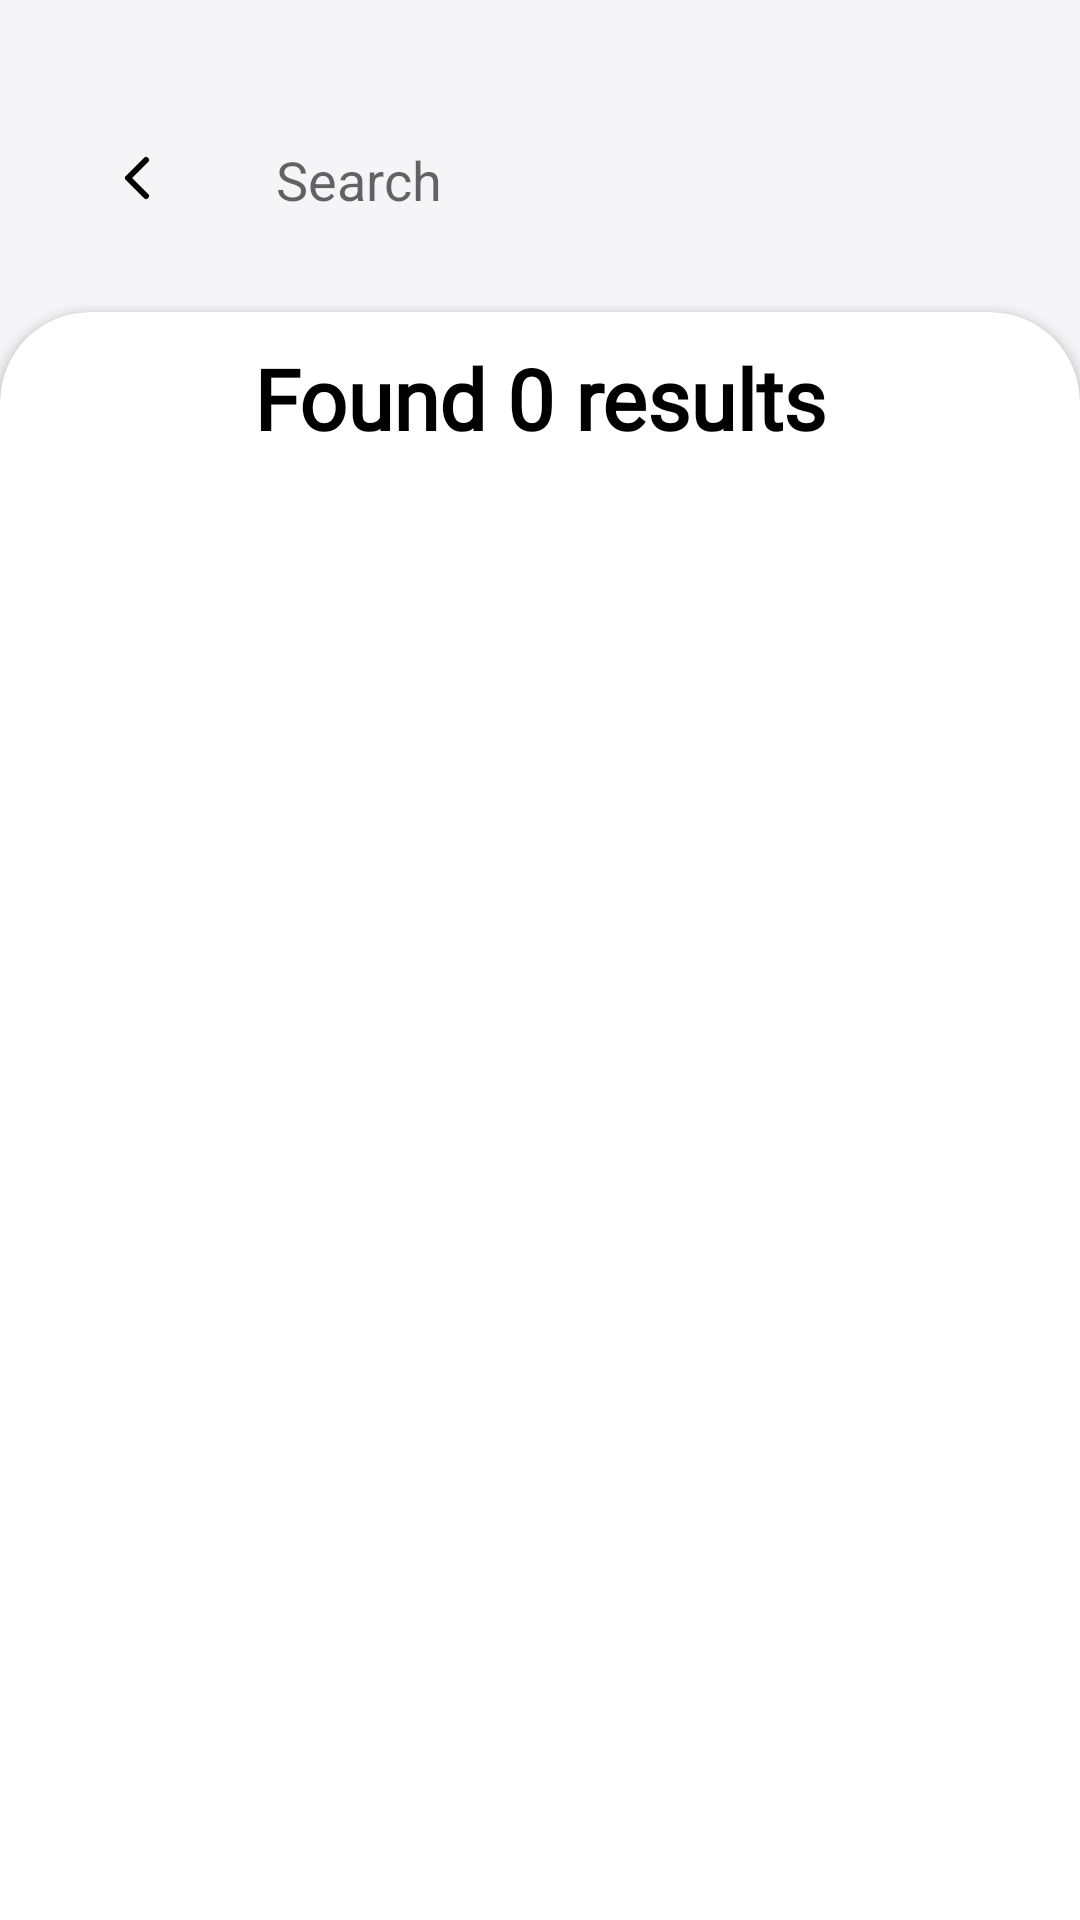

Icons on this 1080x1920 Android screen, each with the point to tap as [x,y]:
chevron left: [137,178]
